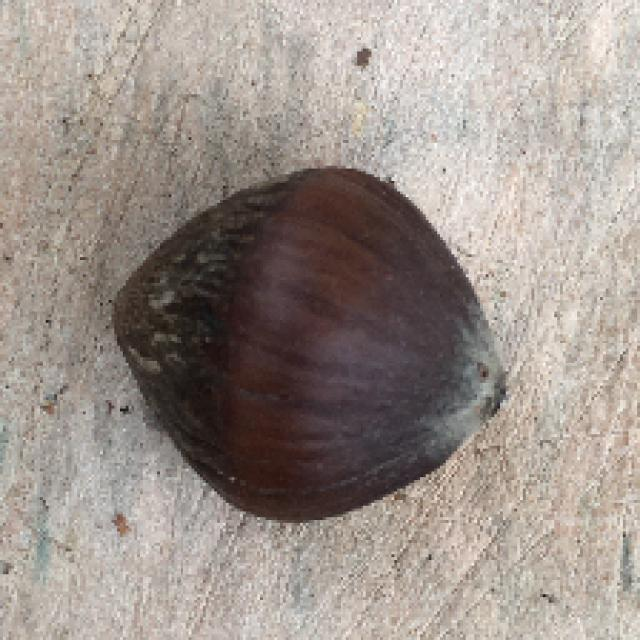damagedHazelnut: (104, 162, 515, 529)
